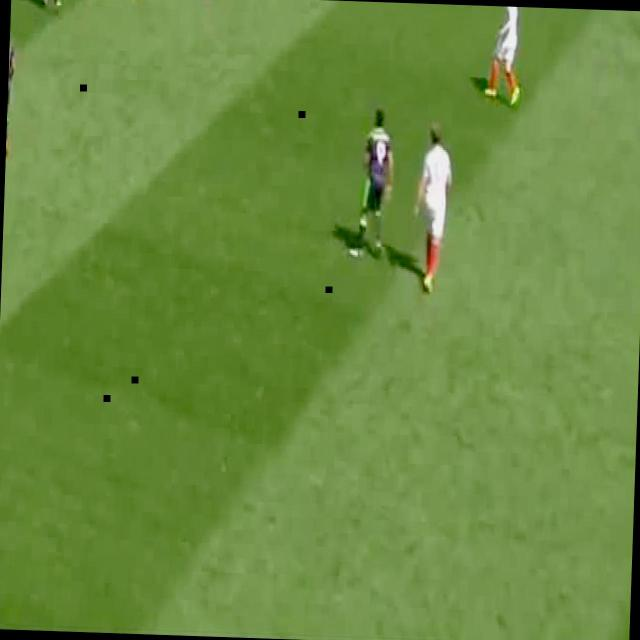player-white: (408, 122, 454, 294), (349, 109, 396, 260), (484, 6, 524, 106), (6, 18, 18, 152), (35, 0, 63, 6)
